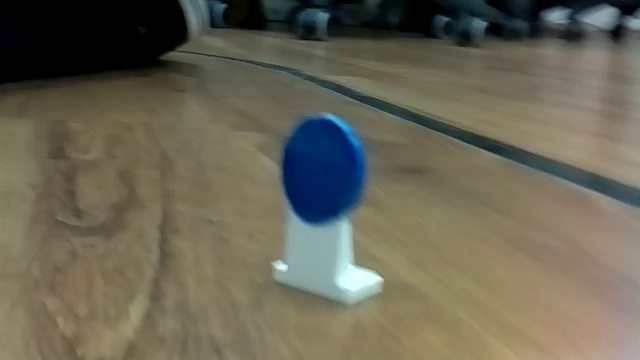circle: (252, 105, 402, 309)
